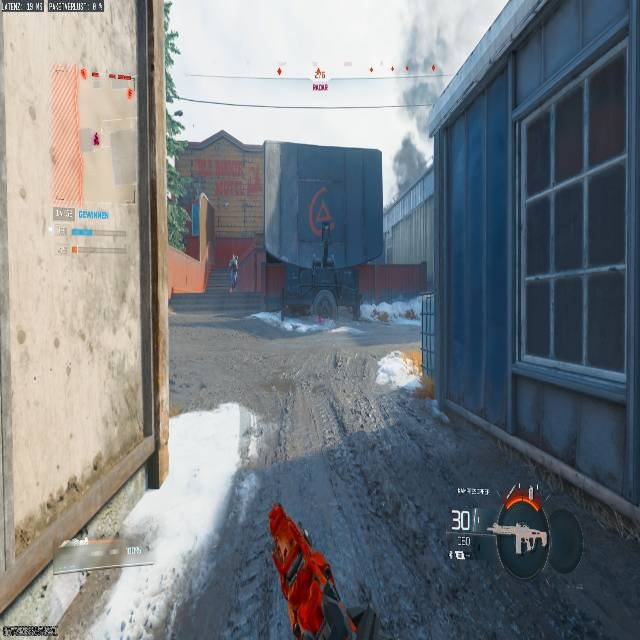player: (227, 255, 238, 291)
